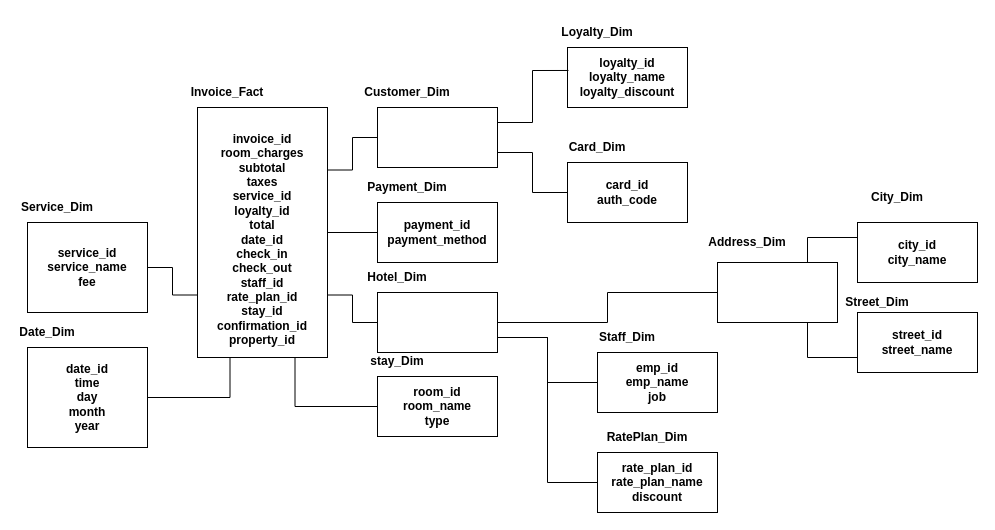
Image size: 995x530. Some labels were removed from this diagram. Each missing label, with the box of its shape:
address_id city_id street_id building_id: (716, 262, 838, 322)
customer_id customer_name loyalty_id card_id: (376, 106, 498, 168)
property_id property_name: (376, 292, 498, 352)
